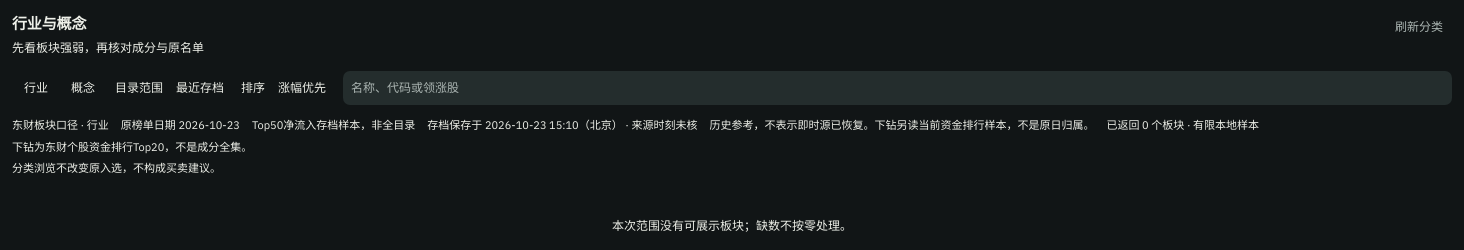
it: 行业概念的显式最近存档 › 空存档和不可用存档保留真实状态，不另拉本次榜单或20日数据
Expected: the text "本次范围没有可展示板块；缺数不按零处理。" is shown, [612, 218, 852, 233]
Click the button "刷新分类": (1419, 27) [1386, 12, 1452, 42]
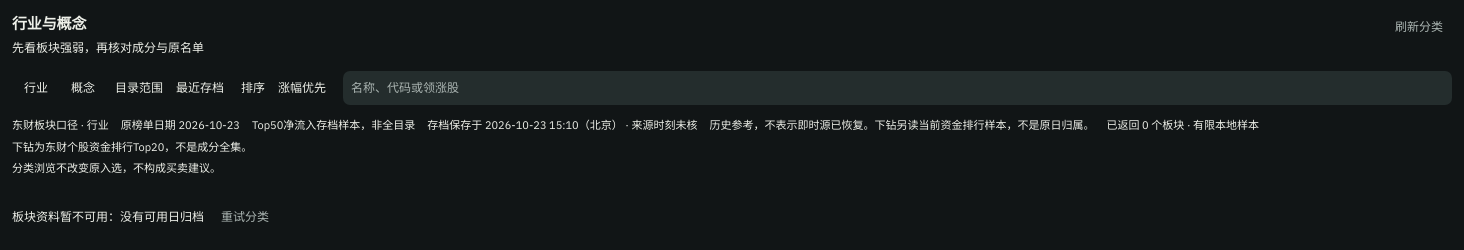
Expected: the message shows "没有可用日归档", [12, 209, 204, 224]
